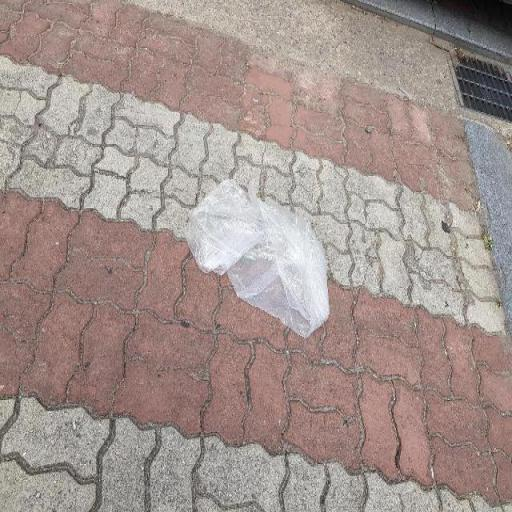plastic-bag: (183, 176, 327, 339)
